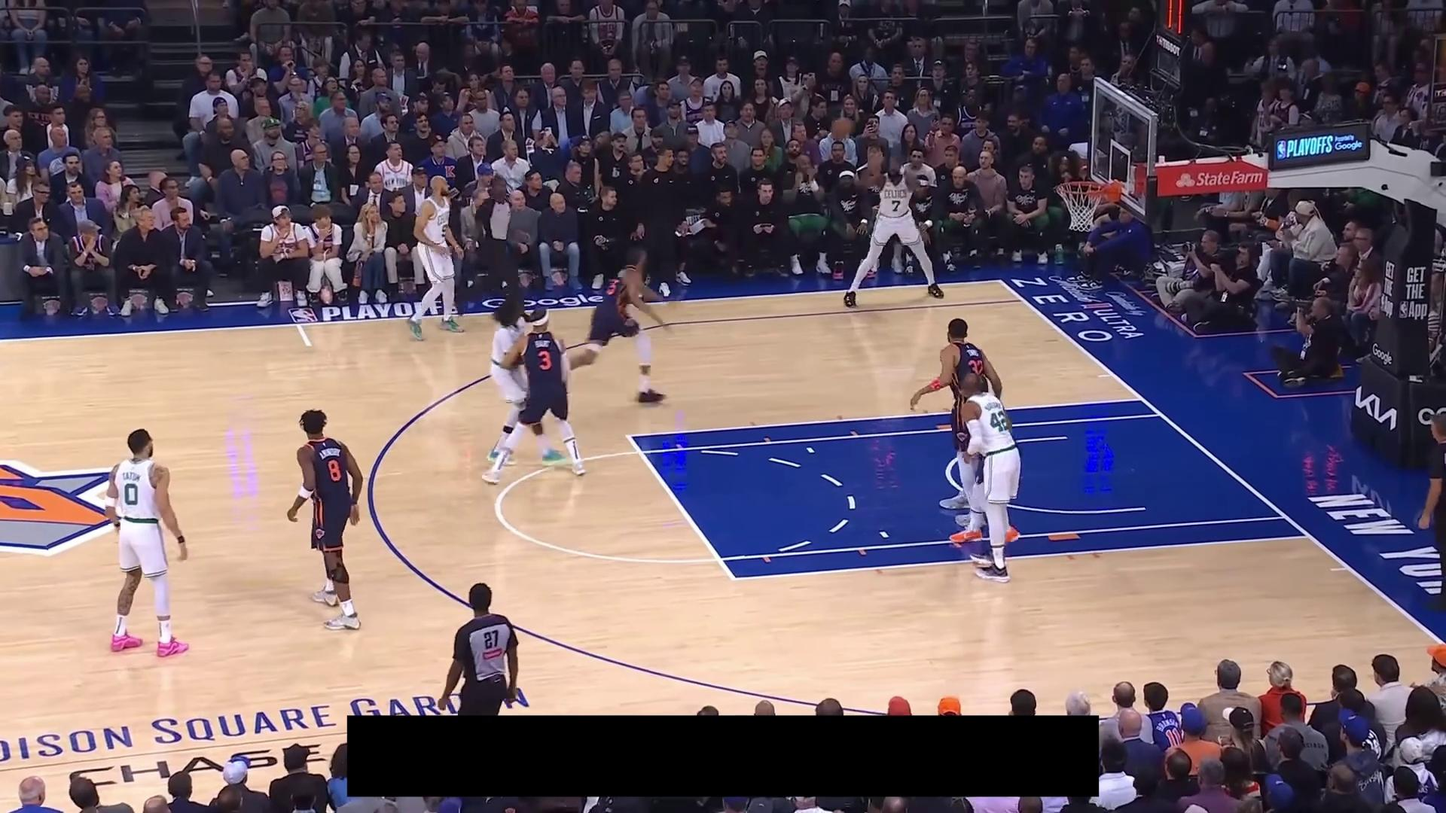ball: (832, 117, 853, 139)
number: (990, 410, 1008, 432), (327, 458, 342, 483), (124, 483, 139, 506), (538, 349, 552, 371), (968, 358, 984, 375), (890, 198, 901, 213), (441, 224, 448, 237)
player: (102, 427, 192, 659), (908, 317, 1002, 528), (483, 306, 587, 484), (287, 408, 367, 632), (566, 245, 672, 406), (844, 153, 946, 309), (488, 293, 566, 467), (960, 373, 1021, 583), (404, 173, 467, 342), (949, 454, 1022, 544)
referee: (438, 582, 519, 715), (468, 175, 532, 327), (1417, 411, 1446, 613)
rim: (1055, 180, 1106, 196)
